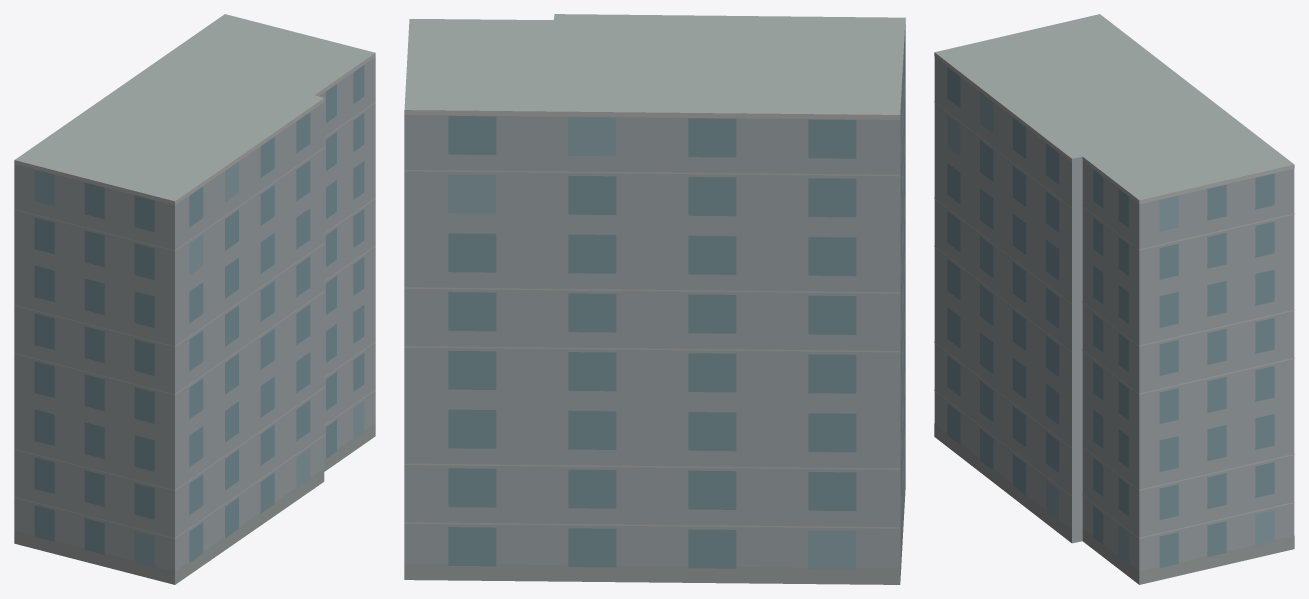
File: survey-upis-32670409.glb
3 renders of one model, left to right at view 1: azimuth 30°, elevation 25°; view 2: azimuth 150°, elevation 25°; view 3: azimuth 270°, elevation 25°, orthographic. The views are drawn at different scales.
Parts seen in each view (by area): view 1: survey-upis-32670409.tmp; view 2: survey-upis-32670409.tmp; view 3: survey-upis-32670409.tmp.
Boxes of the visible parts, x1=… form: survey-upis-32670409.tmp: x1=14, y1=14, x2=375, y2=584; survey-upis-32670409.tmp: x1=404, y1=14, x2=905, y2=584; survey-upis-32670409.tmp: x1=934, y1=14, x2=1294, y2=584.
Size of the model in its own units: 24.03 by 23.1 by 19.62.
